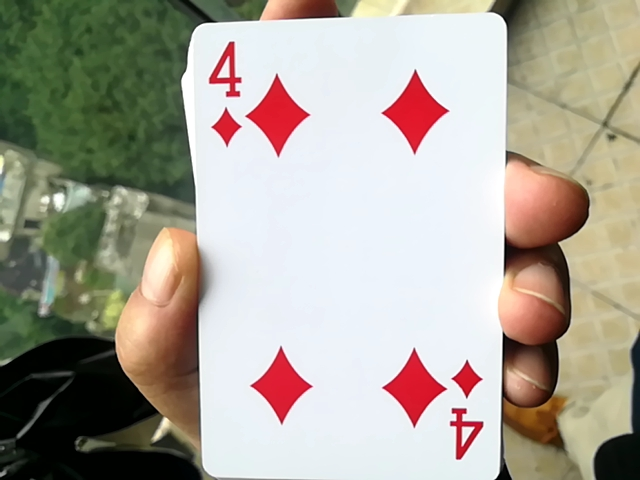fk 4: (166, 1, 501, 475)
